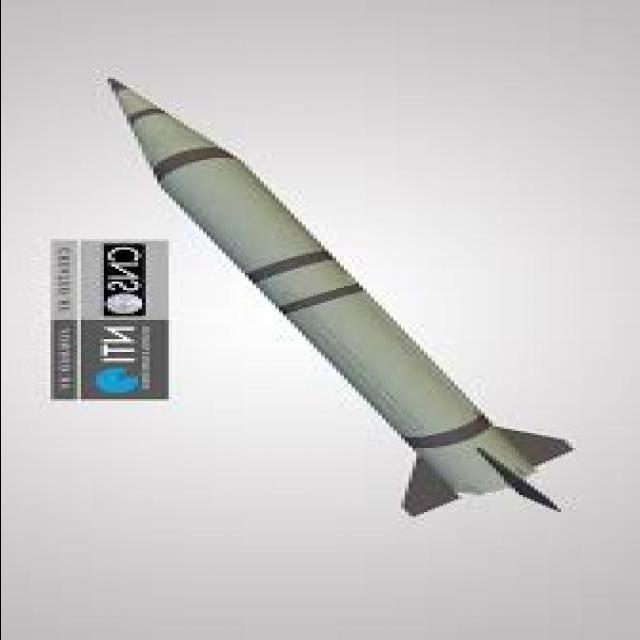missile: (104, 73, 571, 514)
